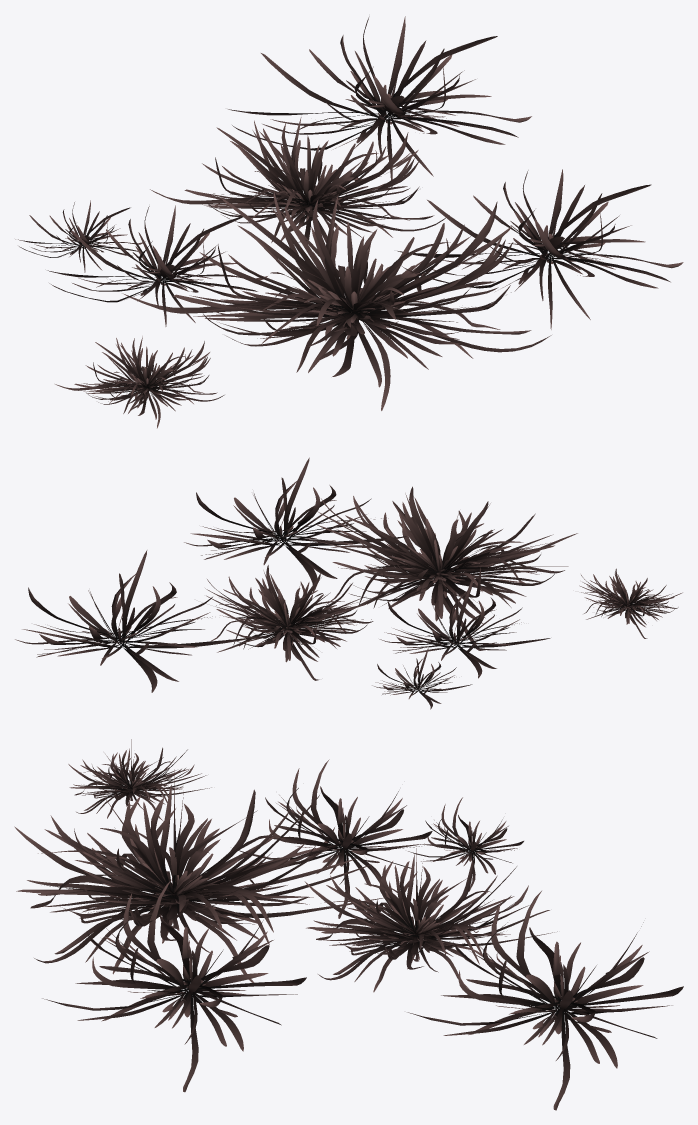
Rendered from grass6.fbx.
3 views of the same model, one above another, from view 1: azimuth 30°, elevation 25°; view 2: azimuth 150°, elevation 25°; view 3: azimuth 270°, elevation 25° (orthographic). The views are drawn at different scales.
Visible parts, largest first — view 1: GS Dryland clump low; view 2: GS Dryland clump low; view 3: GS Dryland clump low.
Part boxes in pixels (x1,y1,x2,y2): GS Dryland clump low: (15, 16, 683, 428); GS Dryland clump low: (15, 457, 682, 709); GS Dryland clump low: (14, 739, 683, 1110).
Size of the model in its own units: 45.9 by 7.75 by 40.21.
